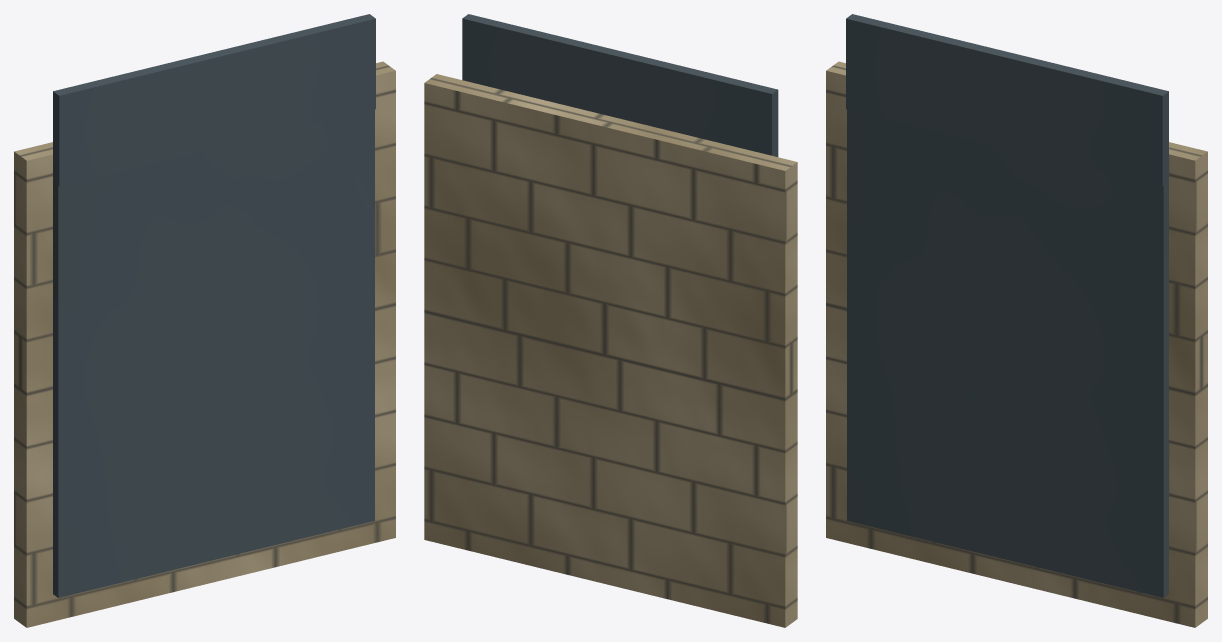
The model's file is window-arched-masonry.lod2.gltf.
3 views of the same model, side by side, from view 1: azimuth 30°, elevation 25°; view 2: azimuth 150°, elevation 25°; view 3: azimuth 330°, elevation 25° (orthographic). The views are drawn at different scales.
Visible parts, largest first — view 1: window-arched-masonry; view 2: window-arched-masonry; view 3: window-arched-masonry.
Boxes of the visible parts, x1,y1,x2,y2 form: window-arched-masonry: (14, 14, 395, 627); window-arched-masonry: (424, 14, 797, 627); window-arched-masonry: (826, 14, 1207, 627).
Size of the model in its own units: 1.69 by 2.32 by 0.15.
Materials: 2 (2 with a texture image).
